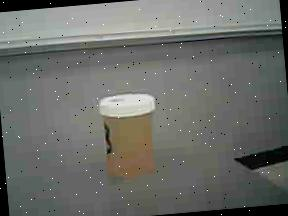Bottle B: (89, 88, 168, 185)
